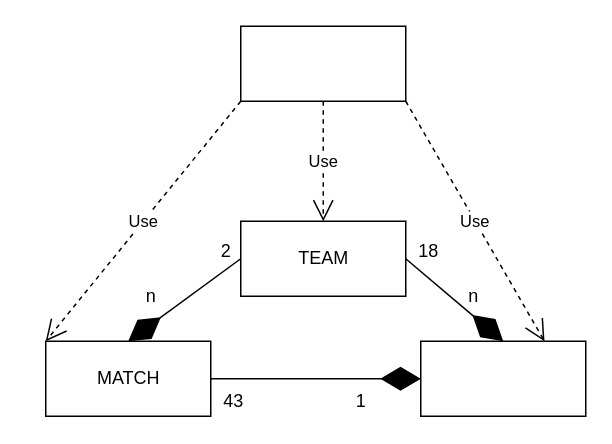
The diagram is 612 pixels wide and 444 high, and some of its shapes have lost their labels. Each missing label, with the centre of its shape:
TOURNAMENT: (x=502, y=378)
USER ROL: (x=322, y=63)
